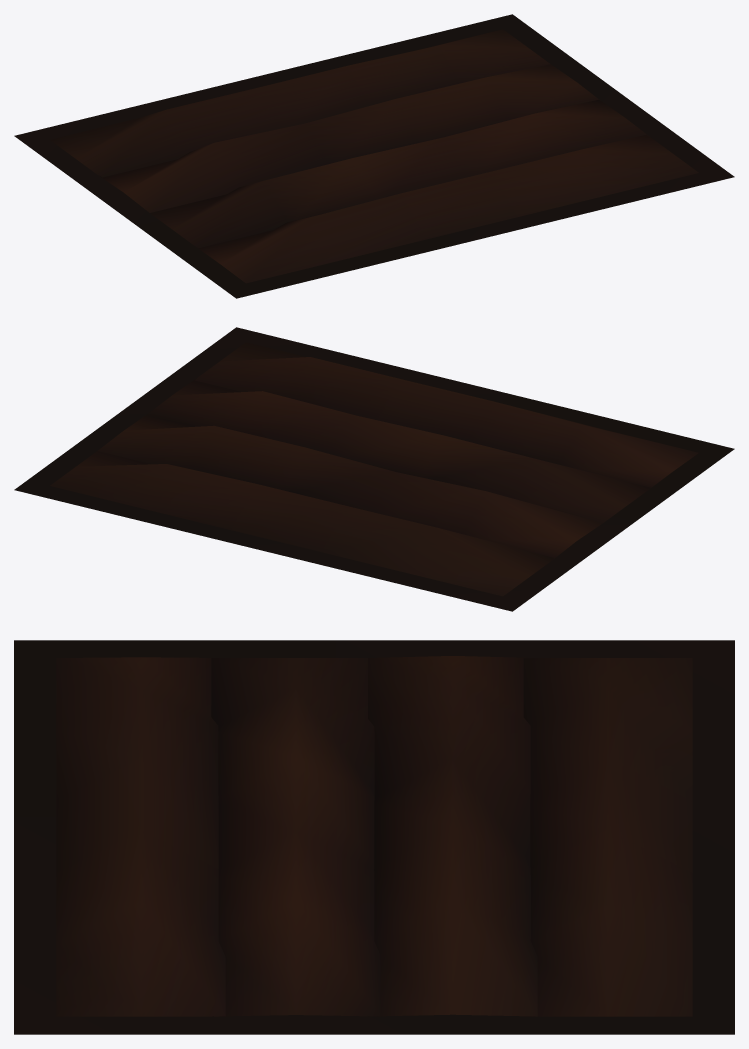
The model's file is fm_bed_wet_lod1.glb.
3 views of the same model, one above another, from view 1: azimuth 30°, elevation 25°; view 2: azimuth 150°, elevation 25°; view 3: azimuth 270°, elevation 25° (orthographic). The views are drawn at different scales.
Parts seen in each view (by area): view 1: fm_bed_wet_lod1; view 2: fm_bed_wet_lod1; view 3: fm_bed_wet_lod1.
Boxes of the visible parts, left/top/right/bottom form: fm_bed_wet_lod1: left=14, top=14, right=734, bottom=298; fm_bed_wet_lod1: left=14, top=327, right=734, bottom=611; fm_bed_wet_lod1: left=14, top=640, right=734, bottom=1034.
Size of the model in its own units: 4.4 by 0.2459 by 3.4.
